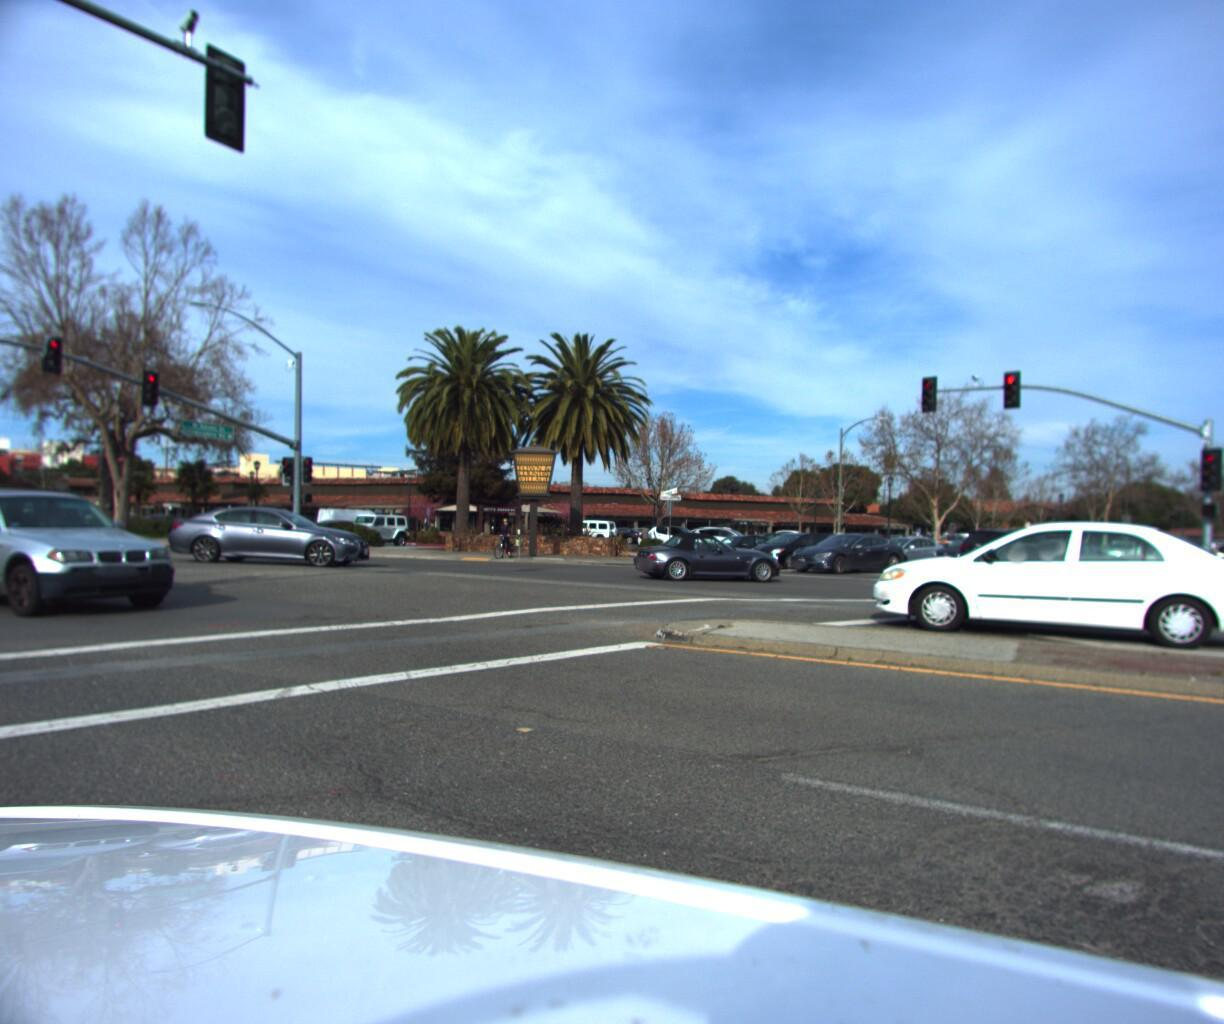car: (863, 513, 1224, 651), (0, 484, 193, 628), (169, 507, 381, 568), (634, 528, 793, 580), (772, 527, 919, 574), (951, 527, 1077, 577), (1175, 522, 1224, 636), (732, 529, 845, 571), (914, 532, 1026, 570), (845, 531, 945, 569), (342, 513, 432, 550), (631, 522, 721, 553), (687, 524, 770, 554), (1213, 520, 1224, 679)
